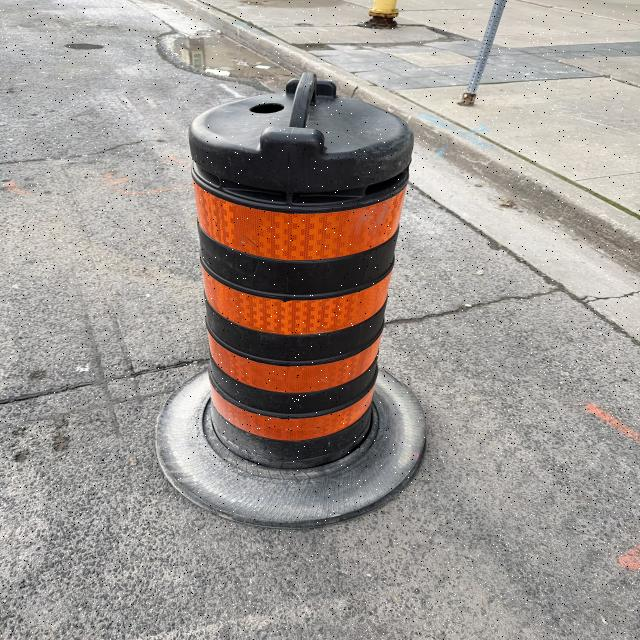Teraffic Barrel: (156, 74, 424, 526)
